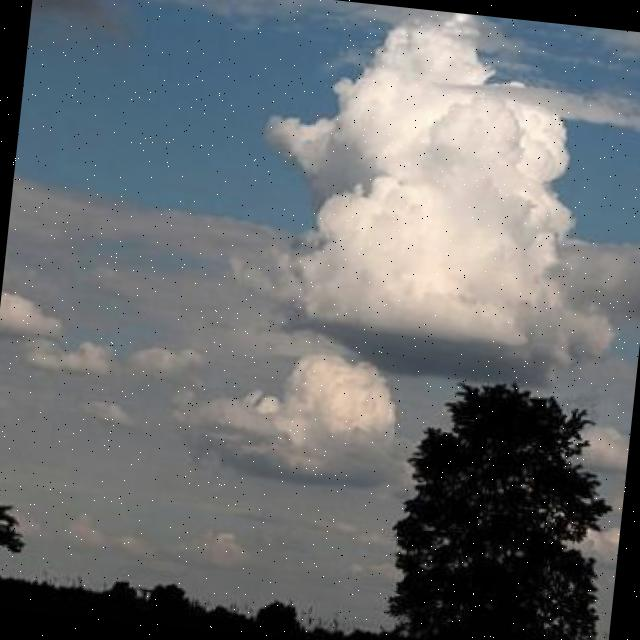Cs: (216, 1, 617, 400)
